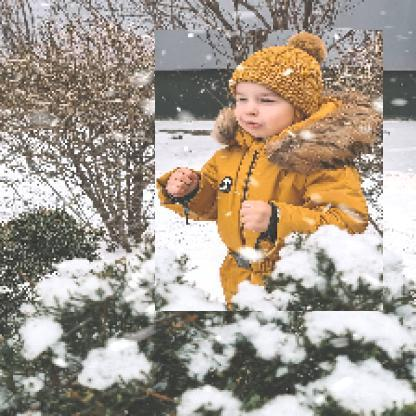child: (156, 31, 385, 313)
